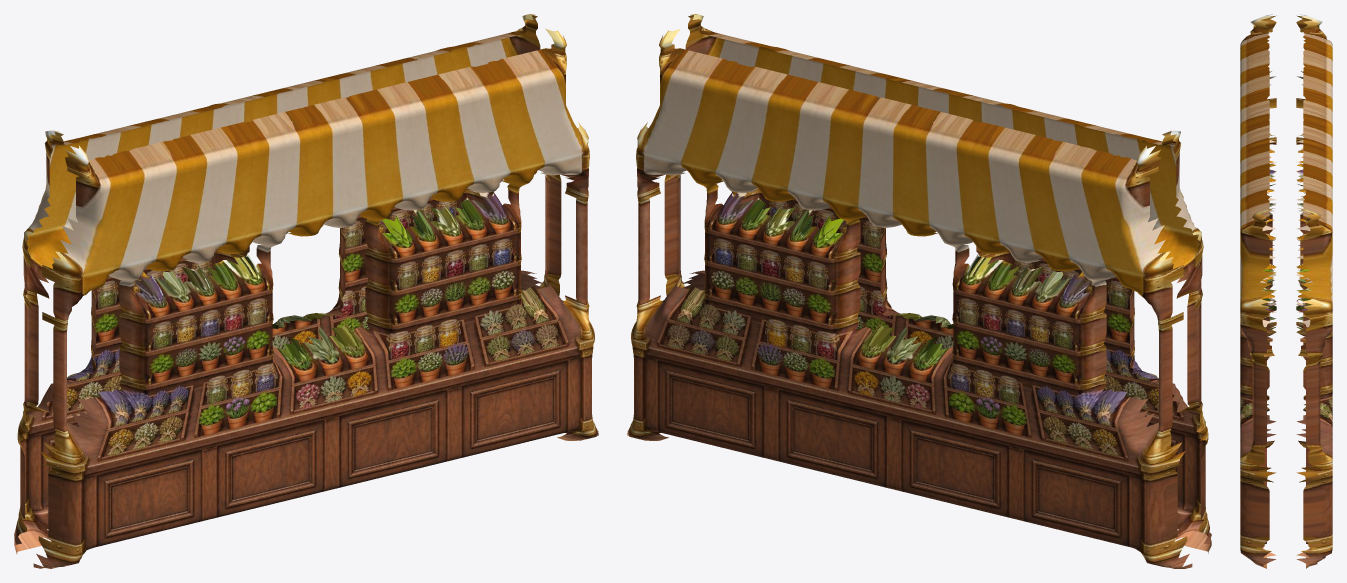
The model's file is v4-market-square-scatter-herb-stall.glb.
3 views of the same model, side by side, from view 1: azimuth 30°, elevation 25°; view 2: azimuth 150°, elevation 25°; view 3: azimuth 270°, elevation 25° (orthographic). The views are drawn at different scales.
Visible parts, largest first — view 1: v4-market-square-scatter-herb-stall; view 2: v4-market-square-scatter-herb-stall; view 3: v4-market-square-scatter-herb-stall.
Part boxes in pixels (x1,y1,x2,y2): v4-market-square-scatter-herb-stall: (14, 14, 598, 568); v4-market-square-scatter-herb-stall: (627, 14, 1211, 568); v4-market-square-scatter-herb-stall: (1240, 14, 1332, 568).
Size of the model in its own units: 1.39 by 0.9813 by 0.24.
Materials: 1 (1 with a texture image).
